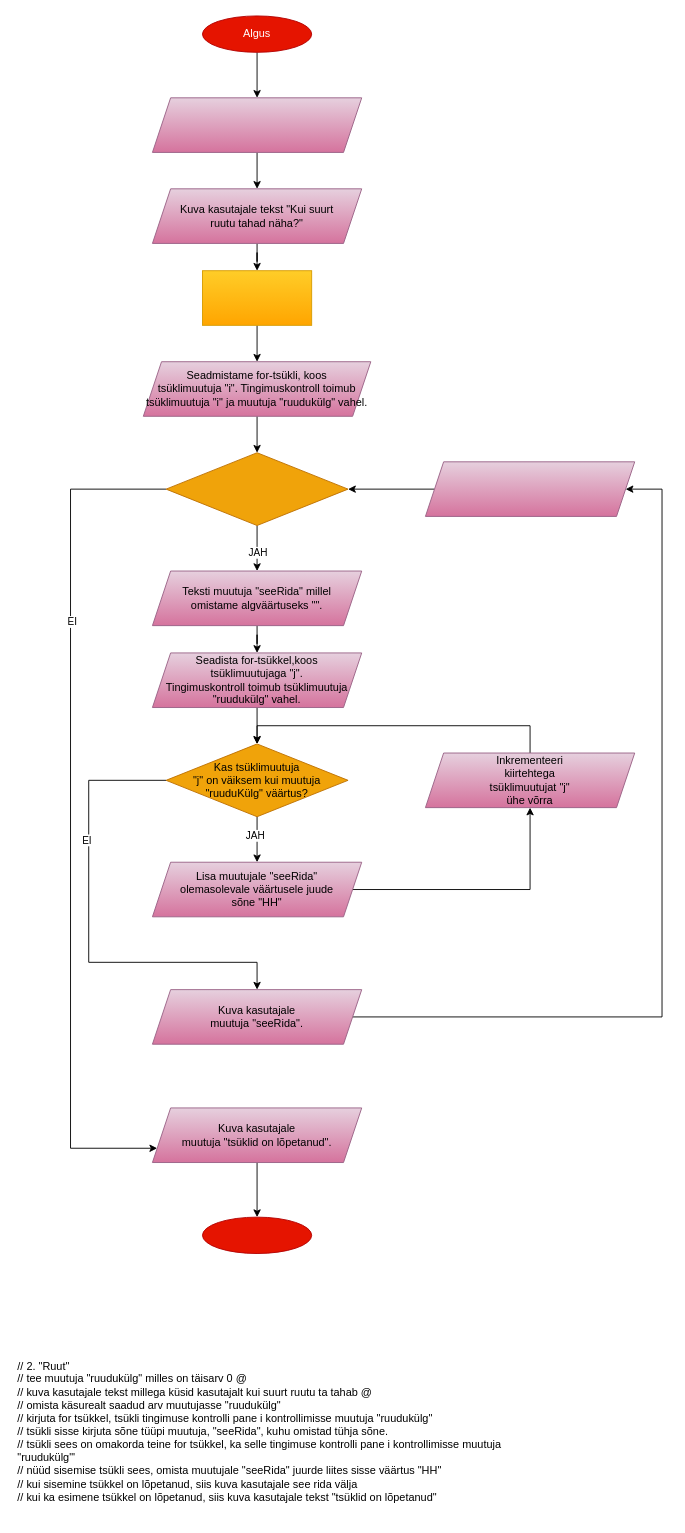
Image size: 685x1533. Some labels were removed from this diagram. The box of each missing label's shape, as (x1, y1, x2, y2) in pixels:
Inkrementeeri kiirtehtega tsüklimuutujat "i" ühe võrra: (425, 461, 635, 516)
Kas tsüklimuutuja "i" on väiksem kui muutuja "ruuduKülg" väärtus?: (165, 452, 348, 526)
Lõpp: (202, 1216, 312, 1254)
Oota kuni kasutaja sisestab muutujasse "ruuduKülg" väärtuse: (202, 270, 312, 325)
Tekitame muutuja "ruuduKülg" kuhu omistame algväätuseks täisarvu 0: (152, 97, 362, 152)
